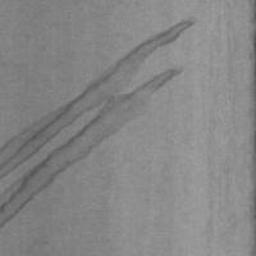Water spot: (0, 14, 200, 230)
